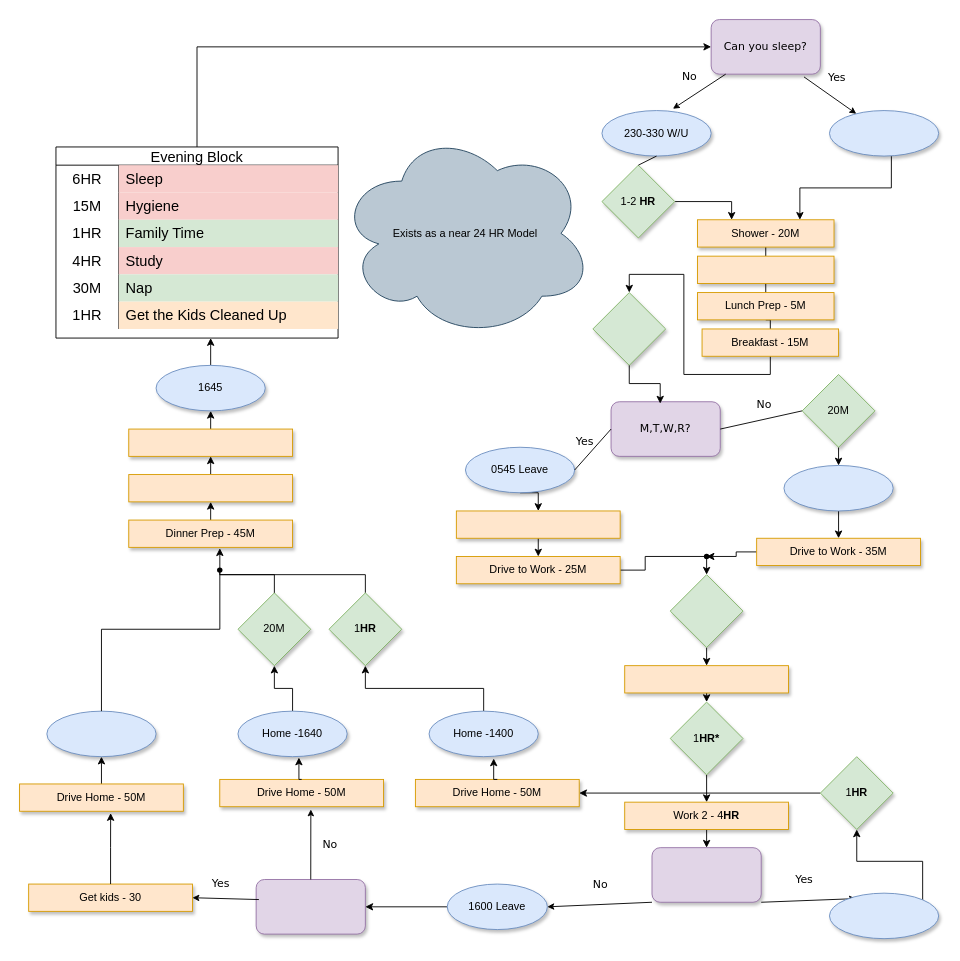
Image size: 960x961. Some labels were removed from this diagram. The shapes that lost their labels are listed below. From the top down, each one's centre as x and y in pixels, then its label:
At (884,134): "0445 W/U".
At (766,271): "Dress -15M".
At (629,330): "5M".
At (211,444): "Eat and Clean Up- 20M".
At (211,489): "Cooking - 30M".
At (839,489): "0610 Leave".
At (539,525): "Take Kids to Childcare - 35M".
At (707,612): "15M*".
At (707,680): "Work 1 - 4 HR".
At (102,735): "Home -1720".
At (707,876): "59 Minute Rule?".
At (311,907): "Get the Kids?".
At (884,917): "1500 Leave".
